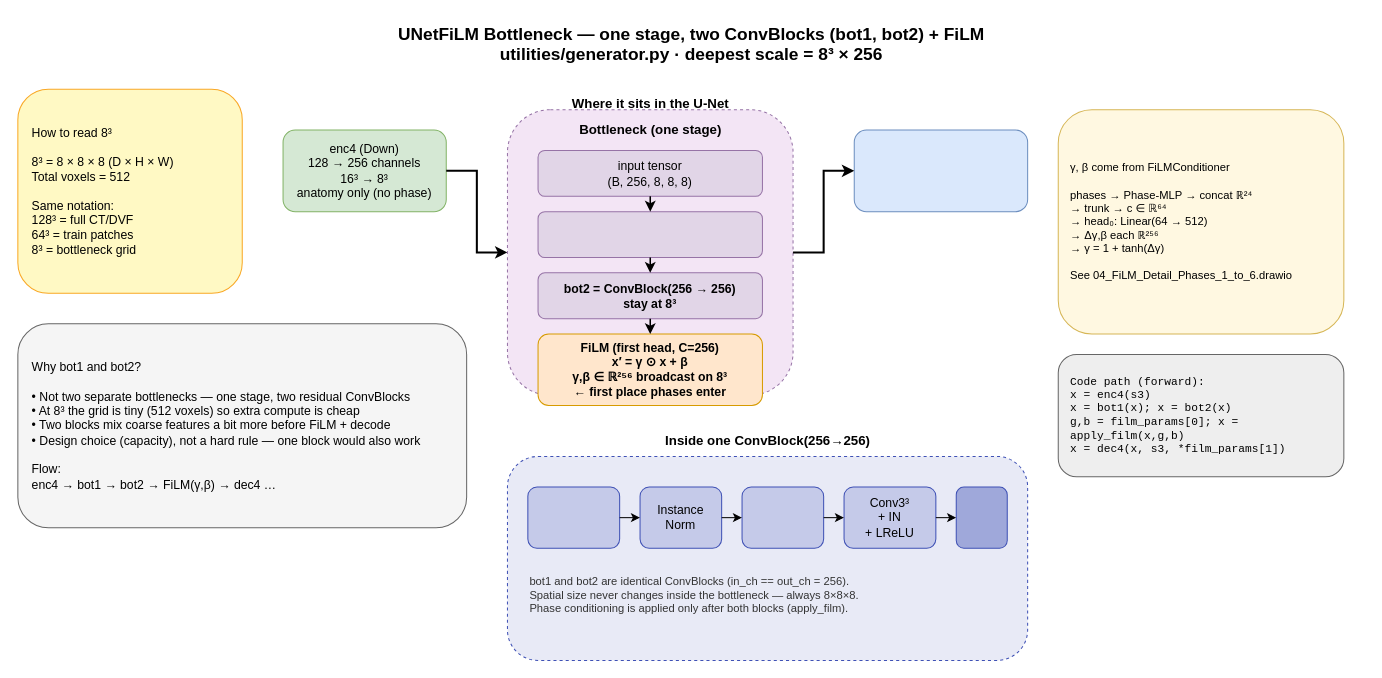
Some shapes in this 1382 by 678 pixel diagram are drawn without their labels. Here are the shapes that lost their labels. From the top down, the centre of each, then its label:
At pixel 940 170: "dec4 (Up) upsample + skip from enc3 8³ → 16³ · 128 ch + FiLM again".
At pixel 649 234: "bot1 = ConvBlock(256 → 256) stay at 8³".
At pixel 573 517: "Conv3³ 256→256 pad=1".
At pixel 782 517: "LeakyReLU 0.2".
At pixel 981 517: "+ residual (same channels → add input)".
